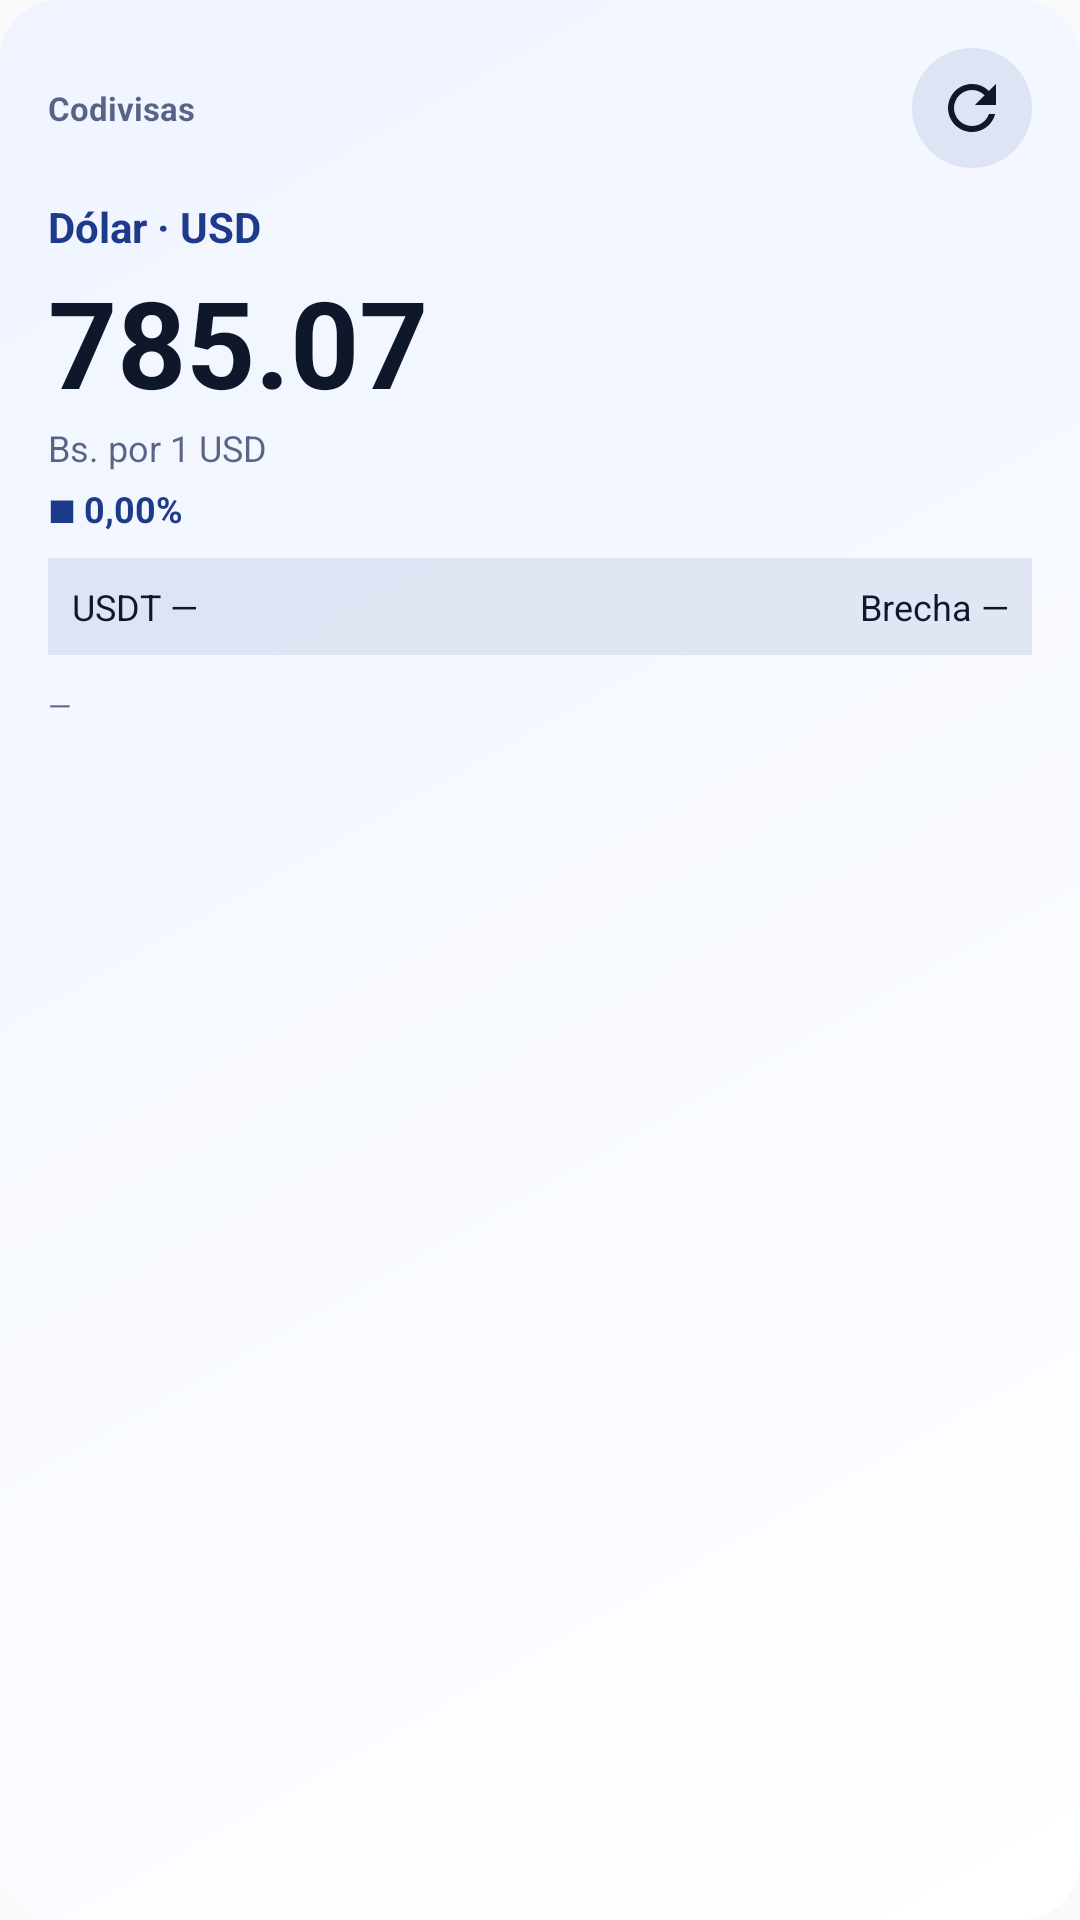

Screen size 1080*1920. Icon name, then its box in pixels as (x1, y1, x2, y2):
Actualizar tasa: (912, 48, 1032, 168)
